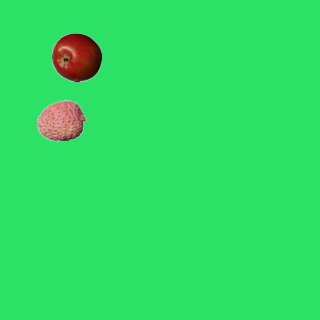Apple Braeburn: (51, 32, 101, 82)
Lychee: (36, 95, 86, 145)
